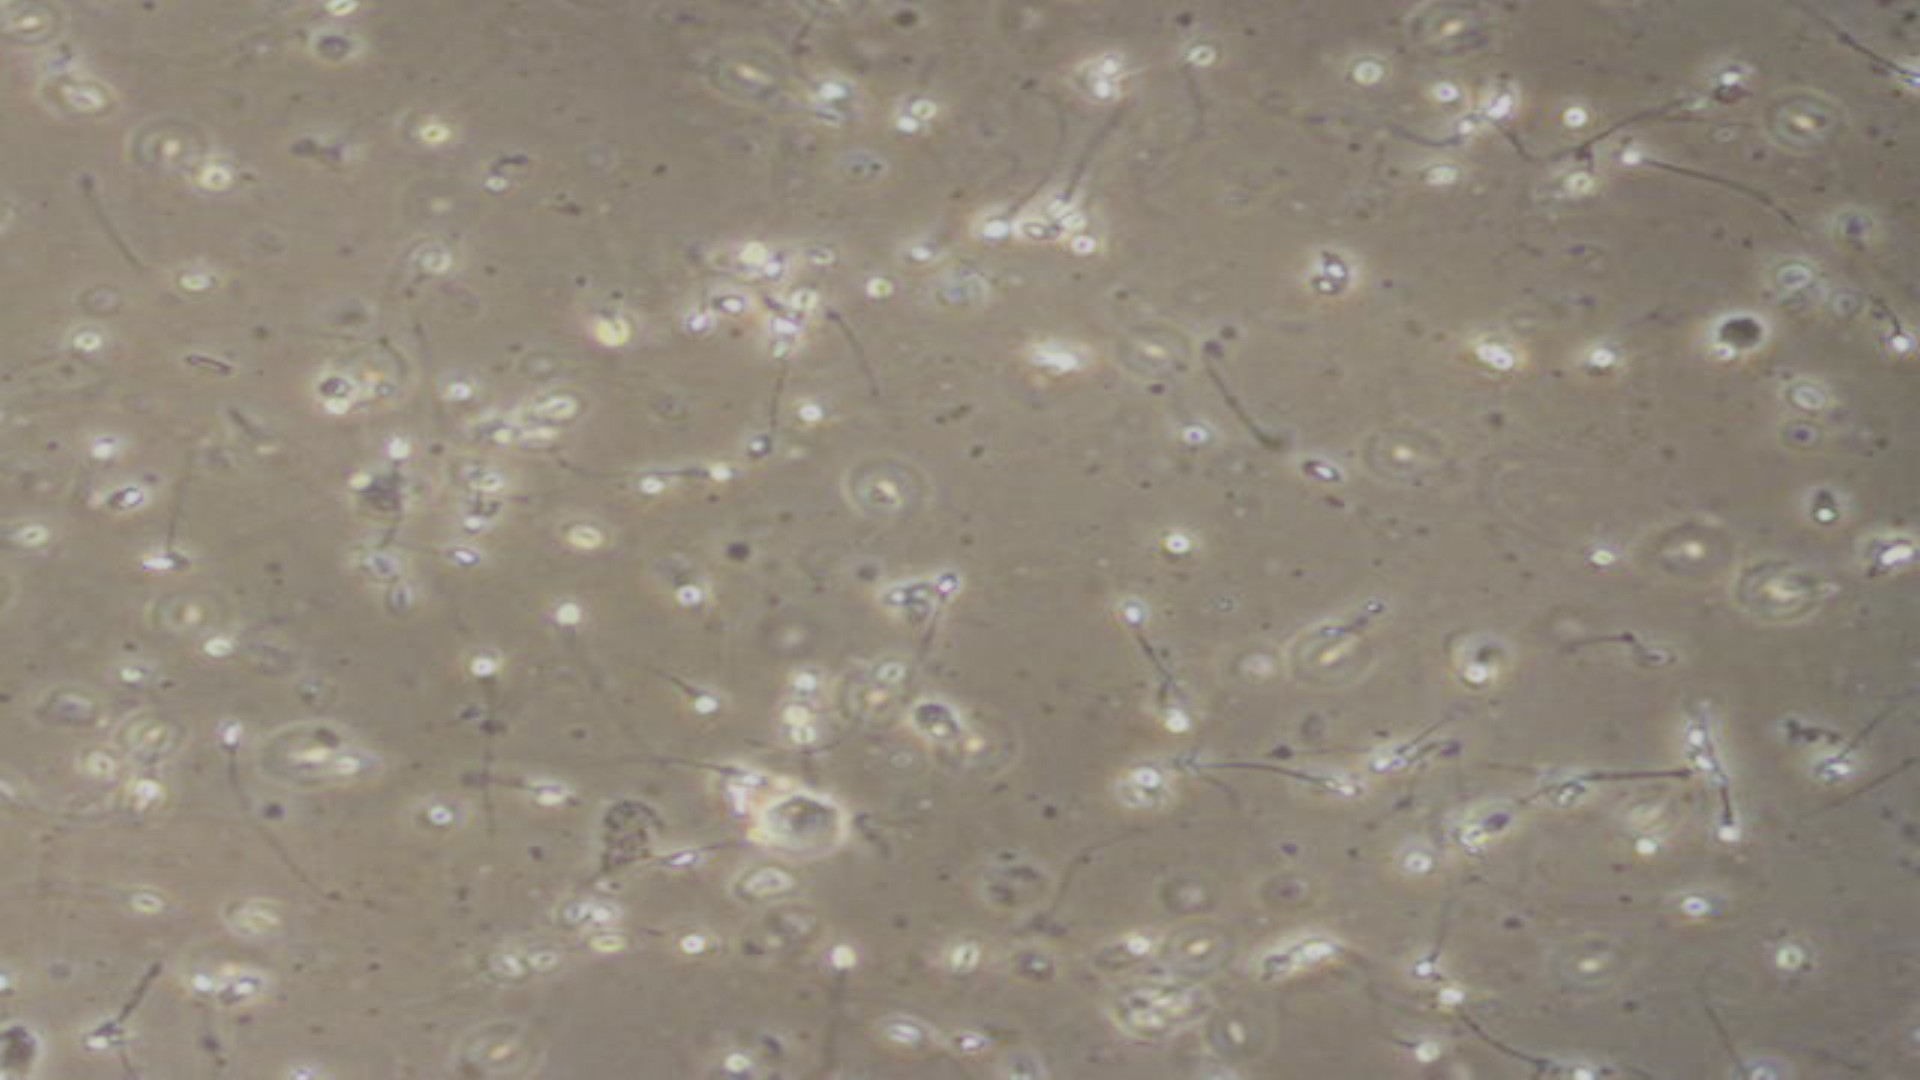sperm: (210, 716, 314, 858), (464, 640, 546, 793), (620, 624, 727, 727), (825, 932, 897, 1071), (554, 444, 750, 492), (1365, 713, 1495, 782), (1114, 589, 1199, 678), (1217, 748, 1365, 796), (1800, 713, 1888, 791), (1393, 895, 1474, 978), (1615, 146, 1735, 200), (742, 373, 804, 468), (659, 837, 778, 885), (1704, 741, 1753, 848), (632, 752, 771, 789), (1381, 1011, 1451, 1073), (1386, 971, 1476, 1017), (922, 574, 959, 667), (389, 541, 489, 574), (1874, 302, 1920, 364)
